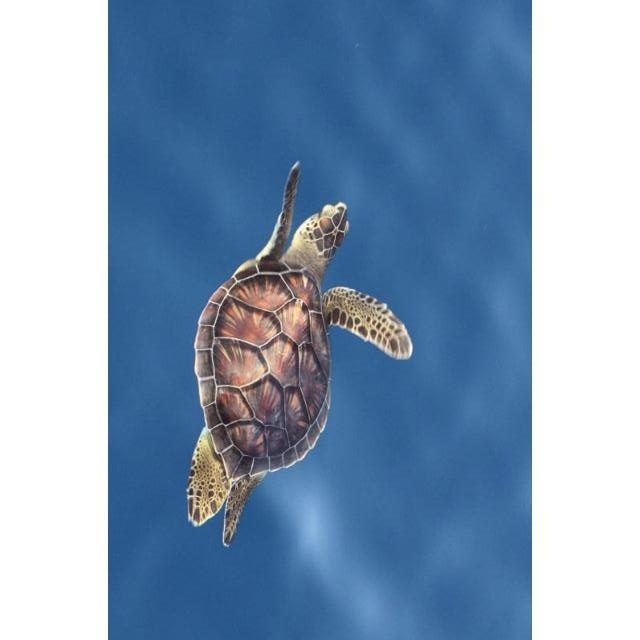turtle: (188, 162, 413, 547)
